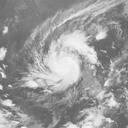cyclone: (22, 31, 98, 94)
